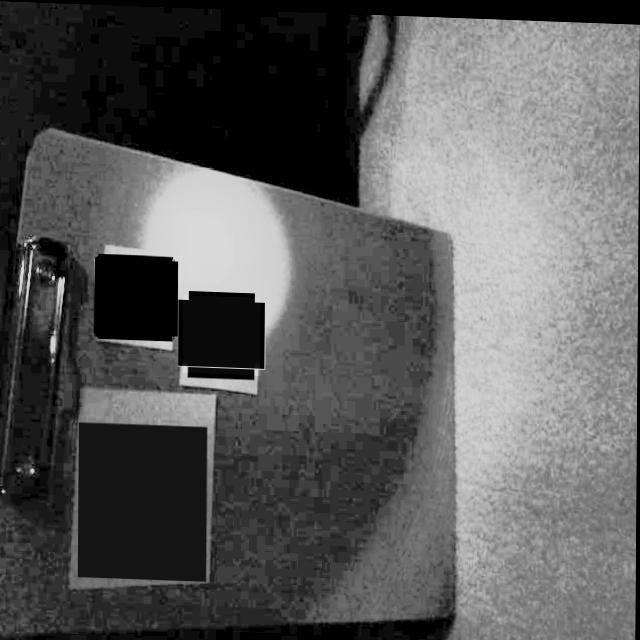qr_code: (79, 420, 209, 579), (96, 254, 176, 337), (183, 292, 261, 373)
